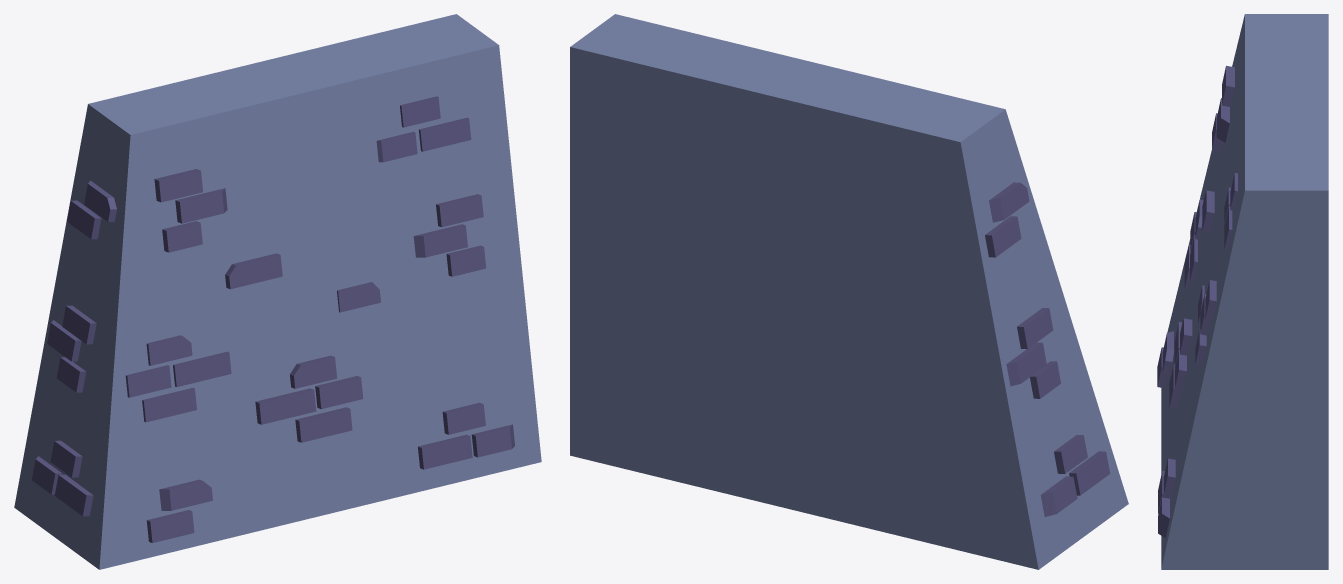
File: Wall_Base_End_01.fbx
3 renders of one model, left to right at view 1: azimuth 30°, elevation 25°; view 2: azimuth 150°, elevation 25°; view 3: azimuth 270°, elevation 25°, orthographic. The views are drawn at different scales.
Parts seen in each view (by area): view 1: Wall_Base_End_01; view 2: Wall_Base_End_01; view 3: Wall_Base_End_01.
Boxes of the visible parts, x1,y1,x2,y2 form: Wall_Base_End_01: (14, 14, 541, 569); Wall_Base_End_01: (570, 14, 1128, 569); Wall_Base_End_01: (1157, 14, 1328, 569).
Bounding box in the file's own units: 1200 × 1000 × 409.
